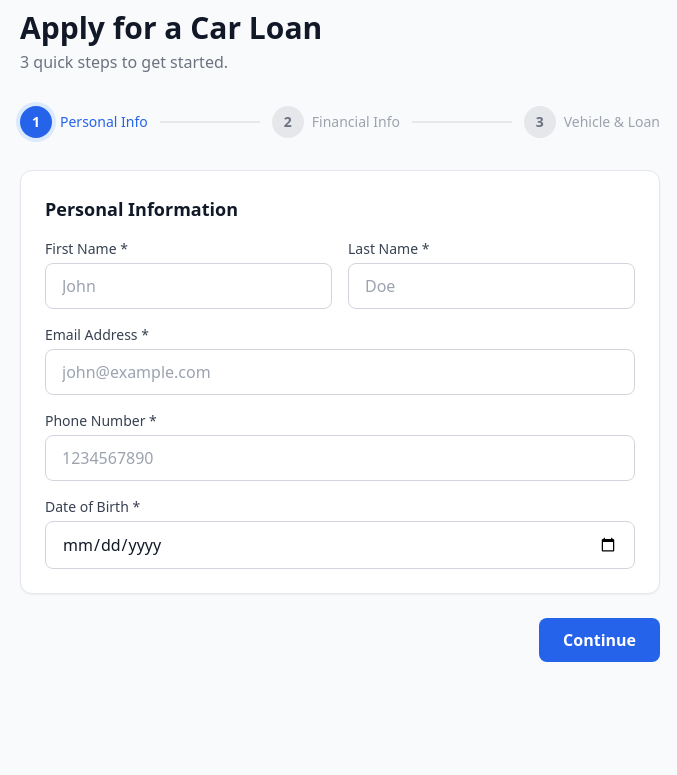
Test: ApplyPage – step 1 (Personal Info) › shows validation errors when Continue is clicked with empty fields
This screenshot has width=677, height=775.
Click the button "Continue" at (600, 640), box [539,618,660,662]
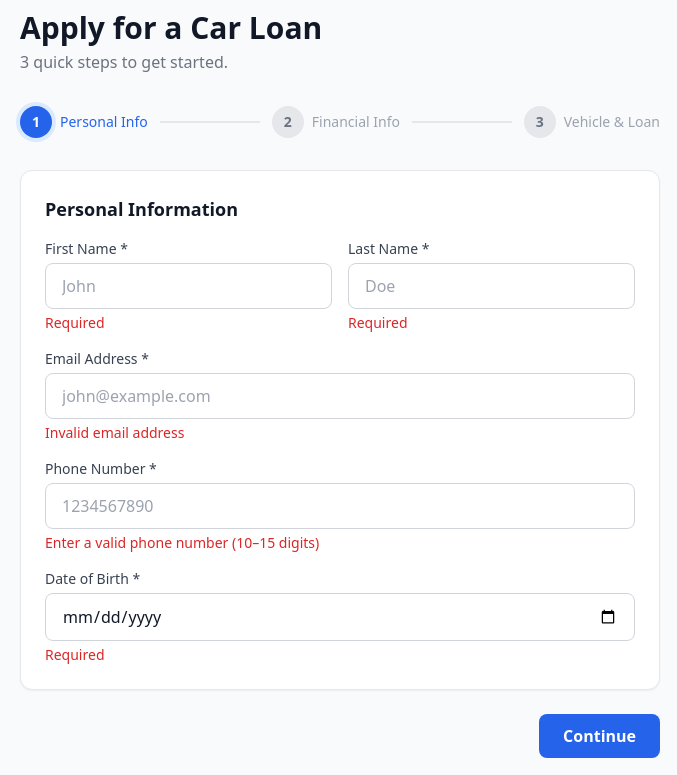
Expected: the text "Required" below "First Name *" is shown, [45,313,104,332]
